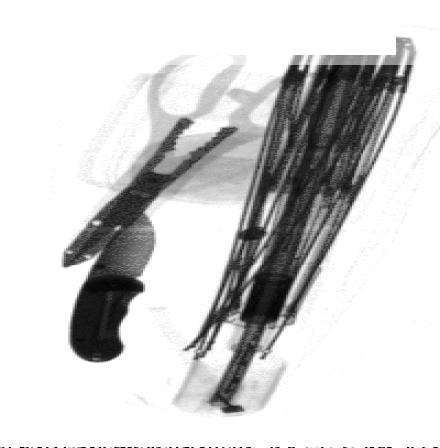Knife: (72, 201, 159, 362)
Scissors: (59, 48, 360, 270)
